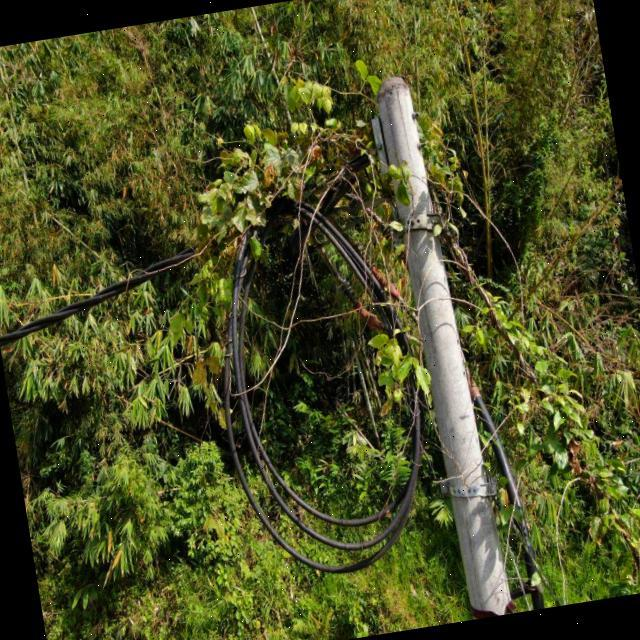critical vegetation: (151, 19, 640, 602)
